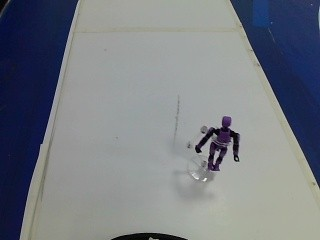pedestrian: (176, 105, 249, 193)
